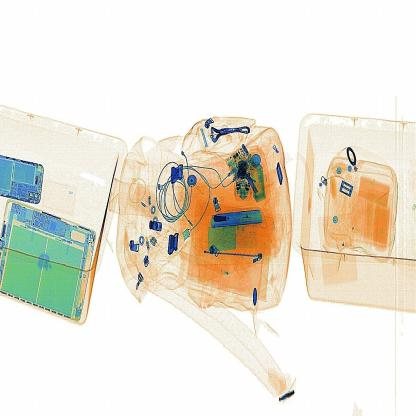pliers: (206, 202, 274, 233)
